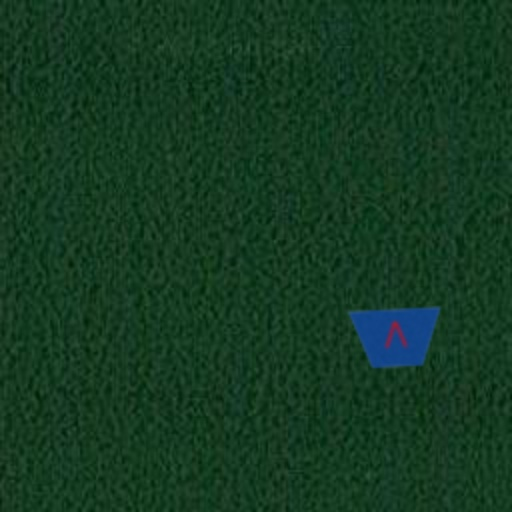trapezoid: (346, 288, 446, 388)
